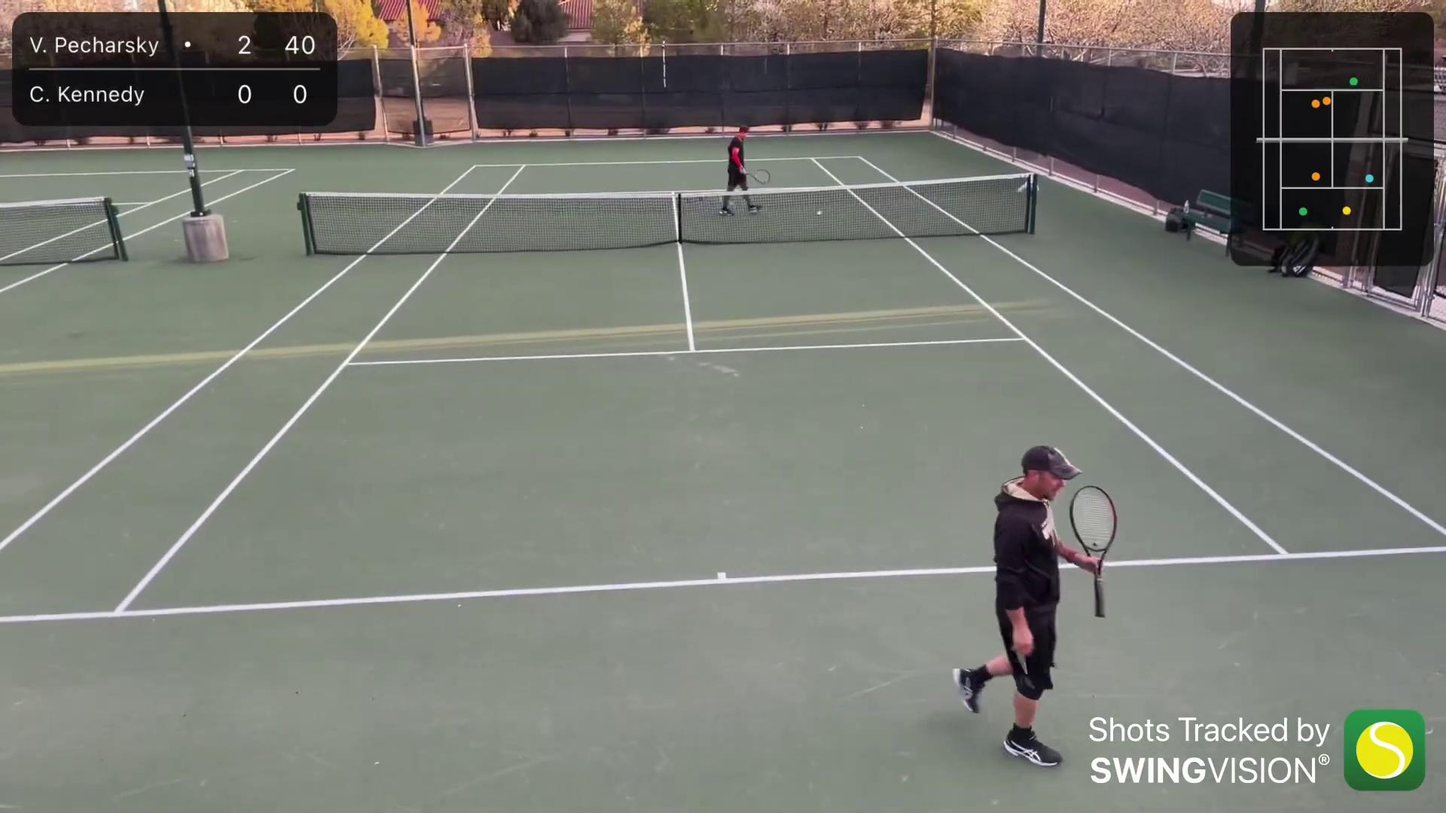ball: (815, 210, 823, 216), (336, 371, 339, 373)
